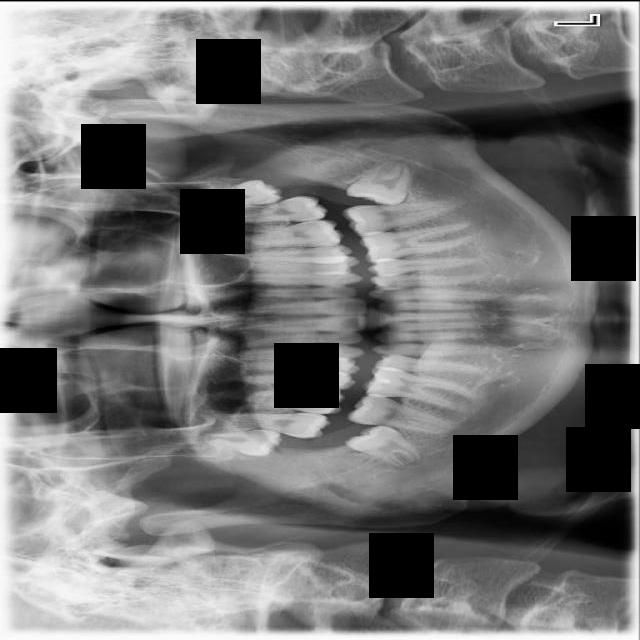3M ESPE Implant: (202, 428, 283, 457)
52: (361, 365, 412, 396)
BioHorizons Implant: (211, 194, 328, 226)
BioLife Implant: (190, 177, 284, 207)
Biomet 3i Implant: (345, 149, 415, 209)
Blue Sky Bio Implant: (341, 197, 463, 238)
Caries: (197, 411, 330, 438)
Implant: (346, 390, 457, 435)
Keystone Dental Implant: (343, 412, 429, 474)
